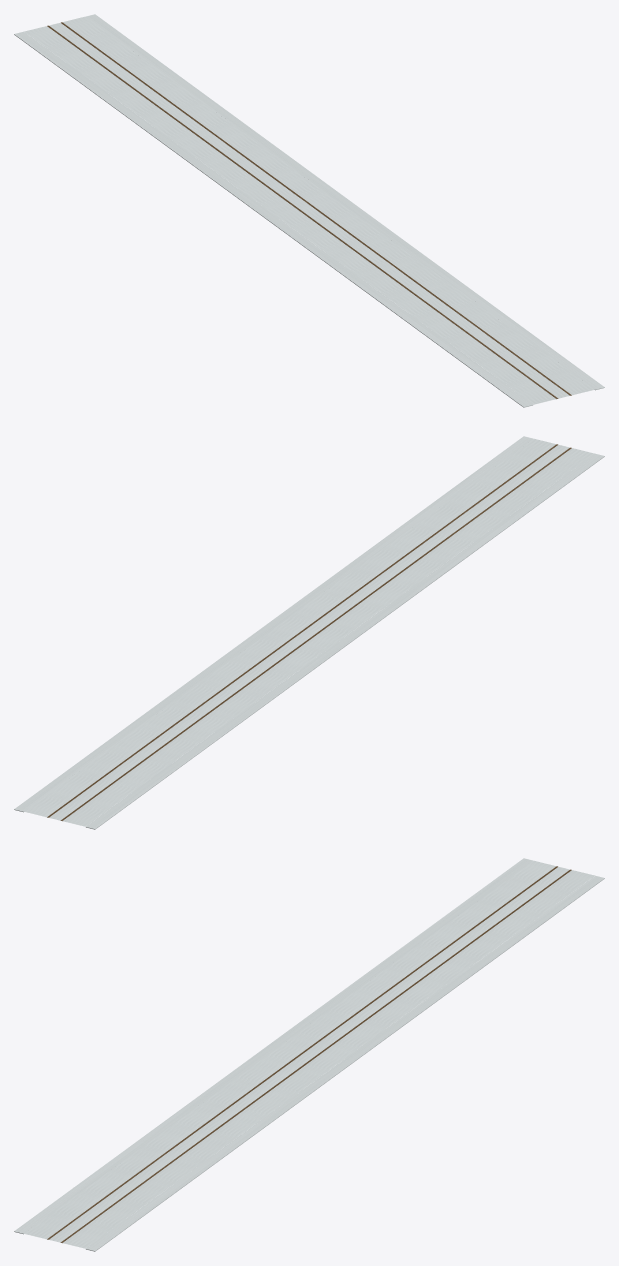
Rendered from Road_Snow_100m_LOD0.fbx.
The picture shows the model from 3 angles, top to bottom: view 1: azimuth 30°, elevation 25°; view 2: azimuth 150°, elevation 25°; view 3: azimuth 330°, elevation 25°; orthographic projection.
Visible parts, largest first — view 1: Road_Snow_100m_OPT_Merged_ENV_Road_Snow_OPT_DATA, Road_Snow_100m_OPT_Merged_ENV_Road_Dirt_OPT_DATA; view 2: Road_Snow_100m_OPT_Merged_ENV_Road_Snow_OPT_DATA, Road_Snow_100m_OPT_Merged_ENV_Road_Dirt_OPT_DATA; view 3: Road_Snow_100m_OPT_Merged_ENV_Road_Snow_OPT_DATA, Road_Snow_100m_OPT_Merged_ENV_Road_Dirt_OPT_DATA.
Boxes of the visible parts, <box> form: Road_Snow_100m_OPT_Merged_ENV_Road_Snow_OPT_DATA: <box>14,14,604,407</box>; Road_Snow_100m_OPT_Merged_ENV_Road_Dirt_OPT_DATA: <box>47,22,571,398</box>; Road_Snow_100m_OPT_Merged_ENV_Road_Snow_OPT_DATA: <box>14,436,604,829</box>; Road_Snow_100m_OPT_Merged_ENV_Road_Dirt_OPT_DATA: <box>47,444,571,820</box>; Road_Snow_100m_OPT_Merged_ENV_Road_Snow_OPT_DATA: <box>14,858,604,1251</box>; Road_Snow_100m_OPT_Merged_ENV_Road_Dirt_OPT_DATA: <box>47,866,571,1242</box>.
Size of the model in its own units: 920 by 7.5 by 10000.
2 materials, 2 textured.
